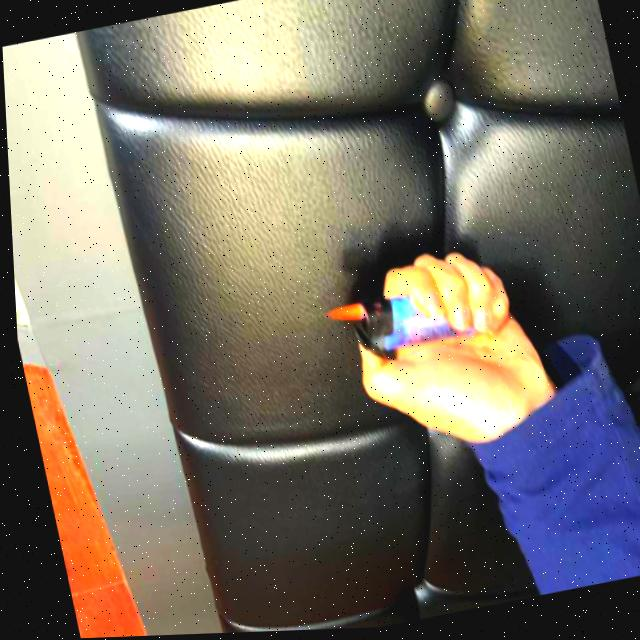Fire: (319, 305, 362, 331)
